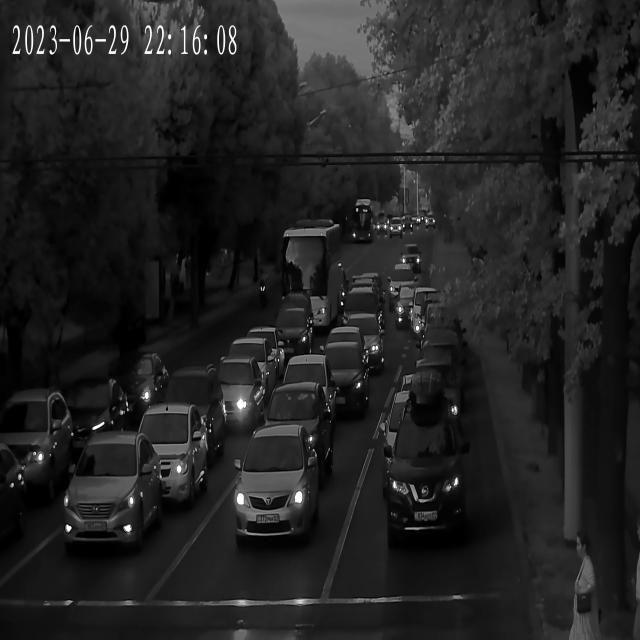Bus: (279, 226, 344, 328), (352, 198, 374, 254)
Car: (382, 384, 469, 548), (61, 434, 164, 552), (239, 427, 321, 546), (248, 384, 332, 483), (127, 405, 209, 505), (0, 390, 73, 501), (152, 372, 227, 455), (272, 354, 341, 424), (301, 342, 367, 414), (105, 348, 170, 419), (200, 361, 268, 424), (219, 338, 279, 400), (401, 354, 464, 405), (0, 442, 26, 553), (400, 289, 451, 339), (234, 329, 286, 377), (324, 328, 372, 379), (414, 333, 466, 378), (338, 289, 384, 338), (270, 310, 314, 355), (391, 282, 434, 318), (388, 270, 422, 304), (401, 245, 424, 271), (388, 224, 403, 240)
Motorcycle: (257, 282, 268, 316)
